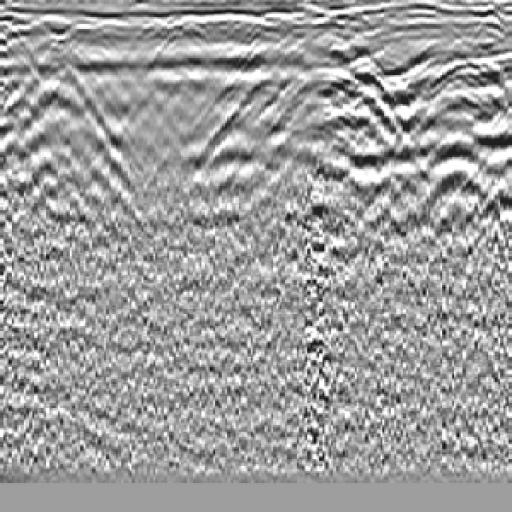non-metallic: (277, 31, 512, 267)
